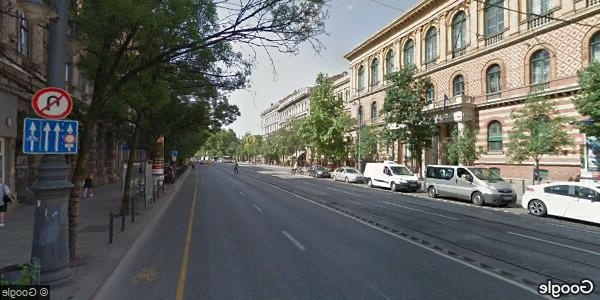a_no_turn: (31, 86, 73, 119)
